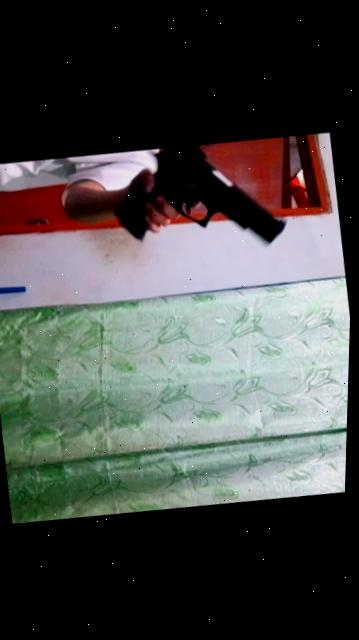pistol: (99, 128, 301, 279)
